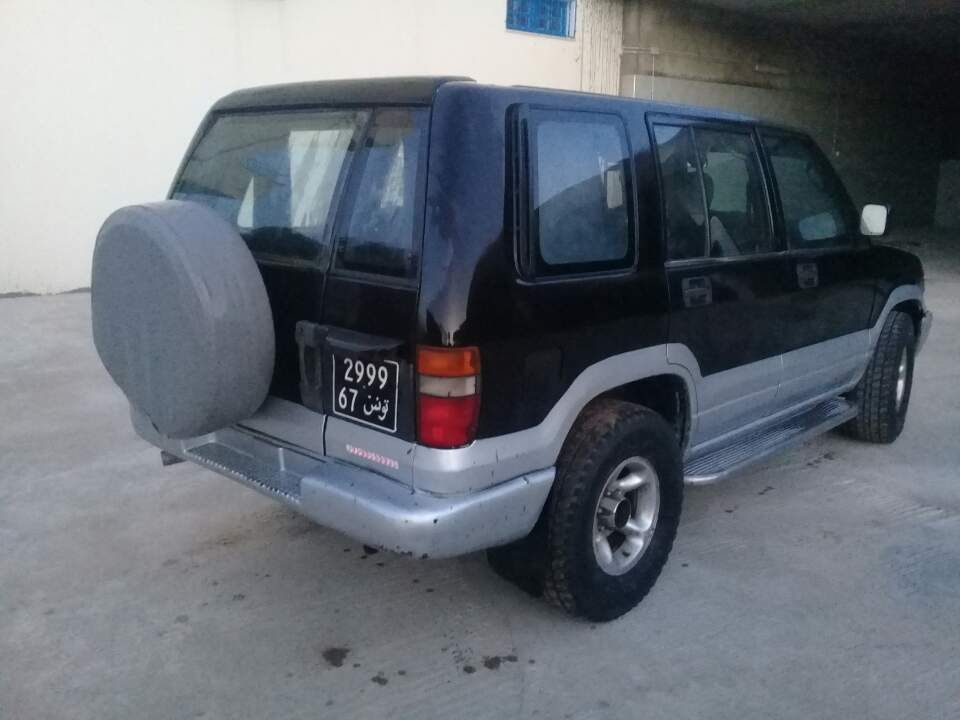LP: (328, 347, 402, 434)
